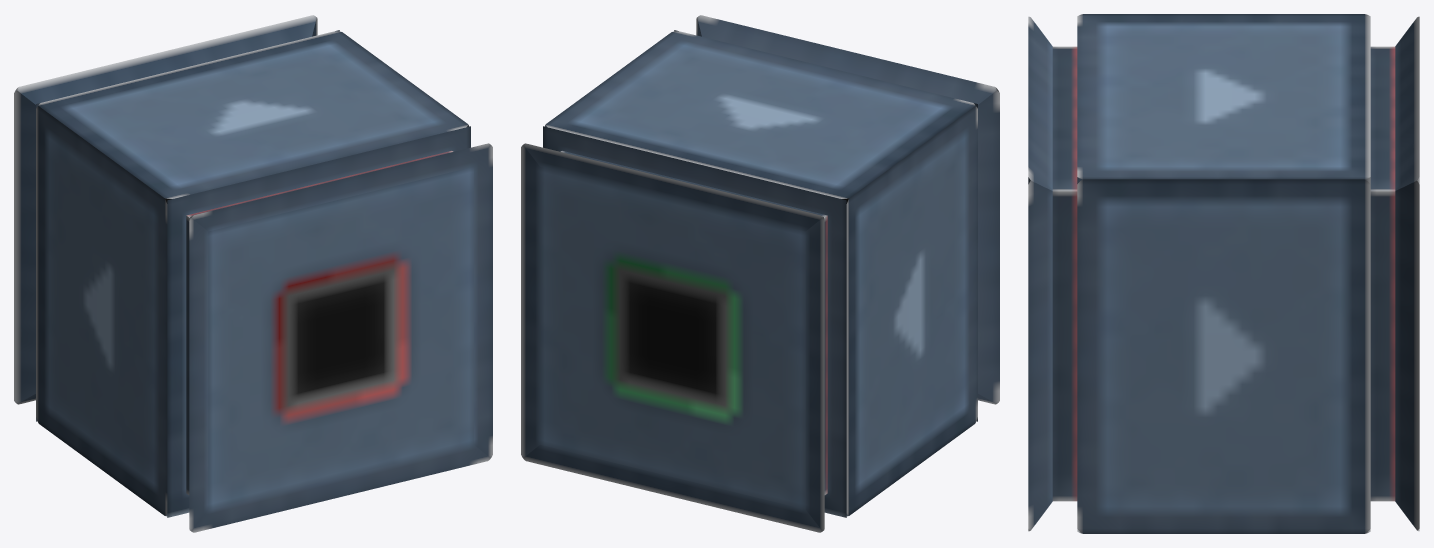
The model's file is AdvancedInserter.dae.
3 views of the same model, side by side, from view 1: azimuth 30°, elevation 25°; view 2: azimuth 150°, elevation 25°; view 3: azimuth 270°, elevation 25° (orthographic). The views are drawn at different scales.
Parts seen in each view (by area): view 1: Inserter; view 2: Inserter; view 3: Inserter.
Boxes of the visible parts, x1=… form: Inserter: x1=14, y1=15, x2=492, y2=532; Inserter: x1=521, y1=15, x2=999, y2=532; Inserter: x1=1028, y1=14, x2=1419, y2=533.
Bounding box in the file's own units: 1 × 1 × 1.
1 material, 1 textured.
